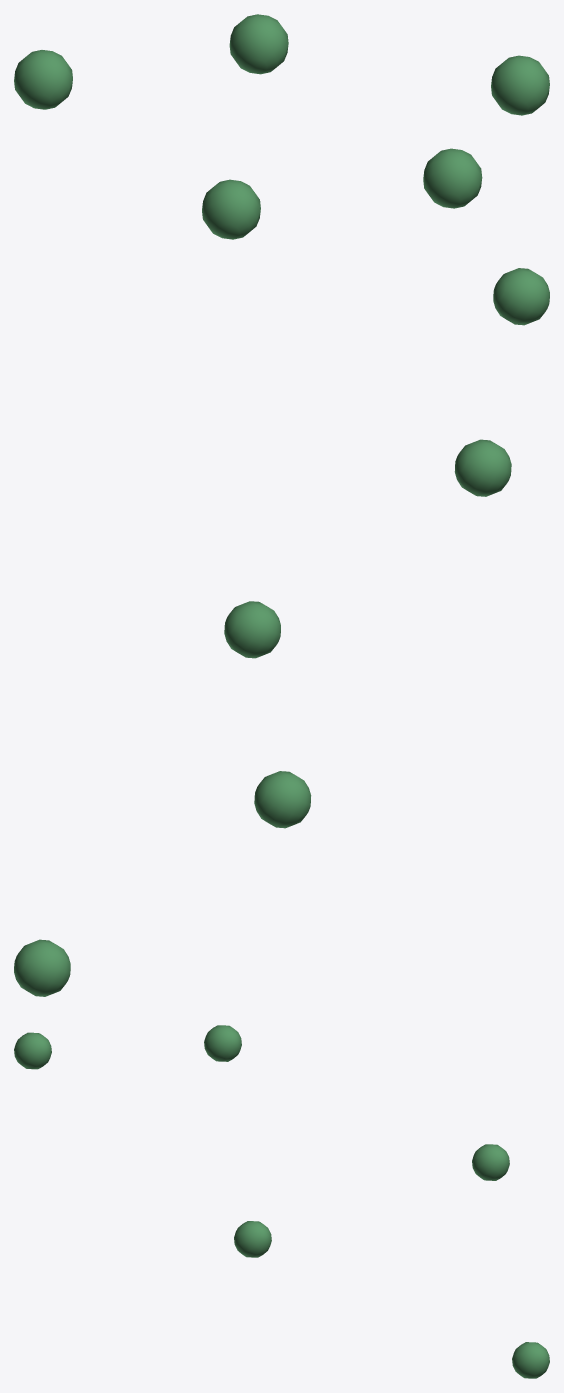
3 renders of one model, top to bottom at view 1: azimuth 30°, elevation 25°; view 2: azimuth 150°, elevation 25°; view 3: azimuth 270°, elevation 25°, orthographic. The views are drawn at different scales.
Visible parts, largest first — view 1: 右侧胸肌间淋巴结; view 2: 右侧胸肌间淋巴结; view 3: 右侧胸肌间淋巴结.
Boxes of the visible parts, left/top/right/bottom form: 右侧胸肌间淋巴结: left=14, top=14, right=549, bottom=239; 右侧胸肌间淋巴结: left=14, top=268, right=549, bottom=996; 右侧胸肌间淋巴结: left=14, top=1025, right=549, bottom=1378.
Bounding box in the file's own units: 0.0199 × 0.0345 × 0.0539.
